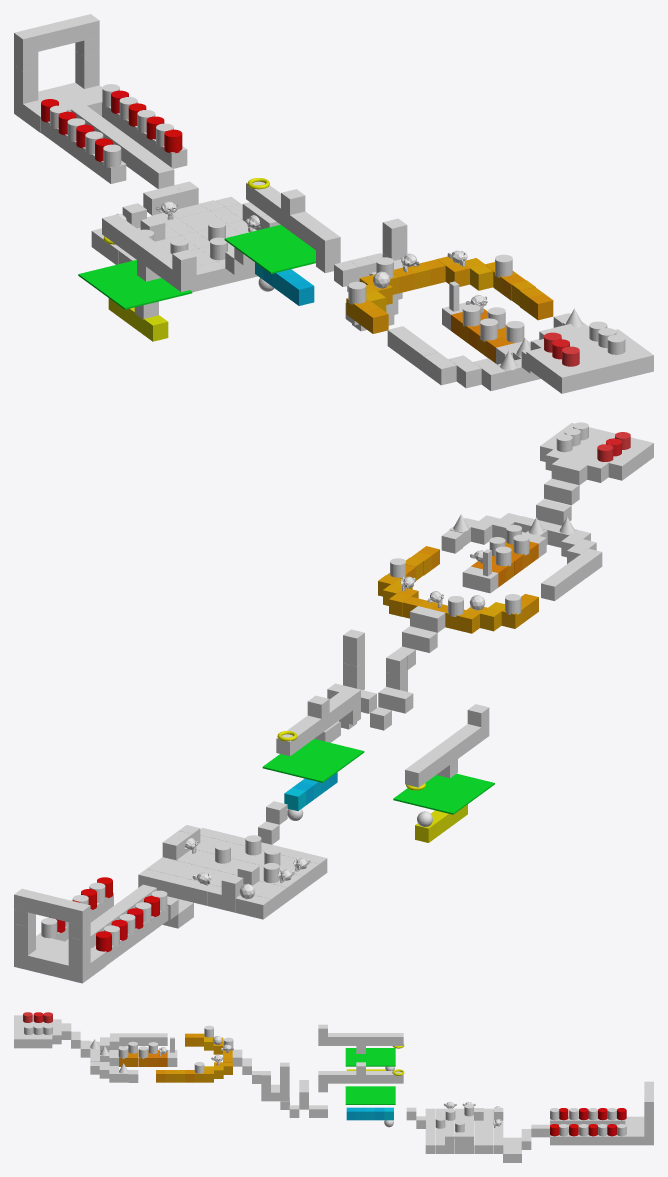
3 renders of one model, top to bottom at view 1: azimuth 30°, elevation 25°; view 2: azimuth 150°, elevation 25°; view 3: azimuth 270°, elevation 25°, orthographic. The views are drawn at different scales.
Visible parts, largest first — view 1: Cube.118, Cube.136, Cube.100, Cube.239, Cube.287, Cube.048, Cube.148, Cube.102, Cube.105, Cube.123, Cube.004, Cube.050 (+4 smaller); view 2: Cube.118, Cube.136; view 3: Cube.118, Cube.136.
Part boxes in pixels (x1,y1,x2,y2): Cube.118: [224, 224, 315, 273]; Cube.136: [78, 260, 192, 309]; Cube.100: [382, 218, 407, 244]; Cube.239: [149, 163, 174, 188]; Cube.287: [14, 29, 38, 55]; Cube.048: [529, 294, 553, 320]; Cube.148: [172, 250, 196, 276]; Cube.102: [432, 359, 456, 385]; Cube.105: [457, 362, 481, 388]; Cube.123: [290, 279, 314, 305]; Cube.004: [553, 367, 577, 393]; Cube.050: [364, 307, 388, 333]; Cube.118: [262, 739, 364, 782]; Cube.136: [393, 773, 494, 814]; Cube.118: [345, 1086, 395, 1104]; Cube.136: [345, 1048, 395, 1066].
Bounding box in the file's own units: 3265 × 2790 × 13267.
